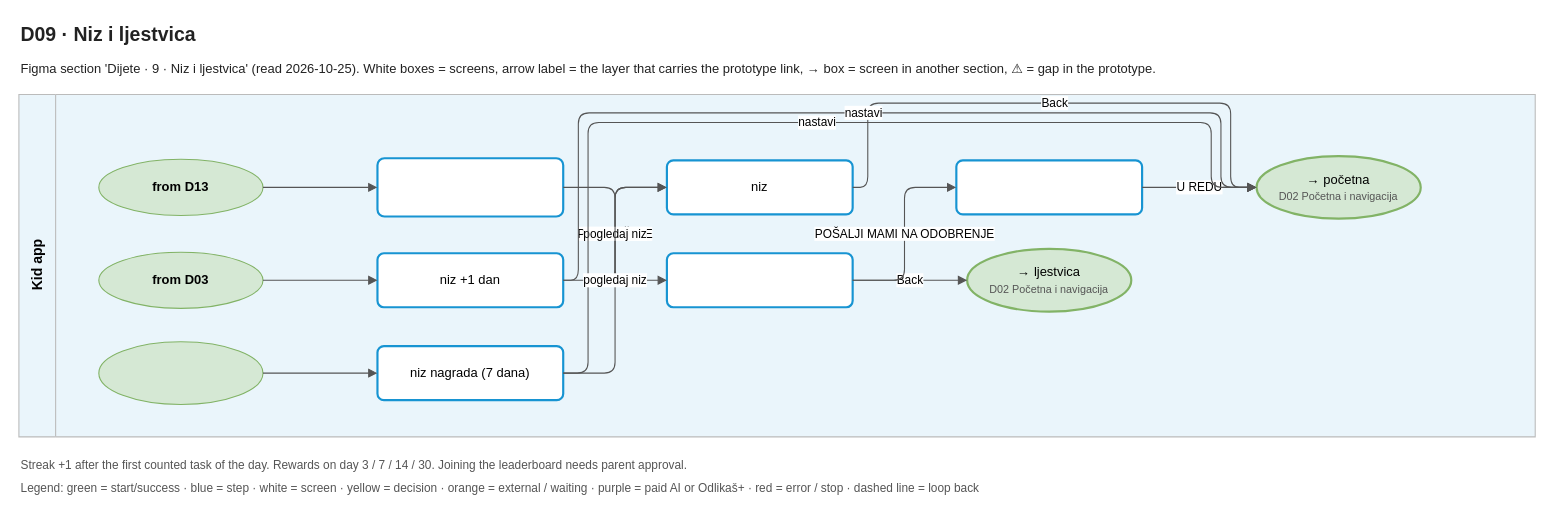
The diagram is 1554 pixels wide and 517 high, and some of its shapes have lost their labels. The box of each missing label's shape, as (x1, y1, x2, y2) in pixels:
ljestvica (nisi pridružen) + bottom bar: (376, 157, 564, 217)
ljestvica pridruži: (665, 252, 853, 308)
ljestvica čeka odobrenje: (955, 159, 1143, 215)
Streak reaches day 7 (also 3 / 14 / 30): (98, 341, 263, 404)
